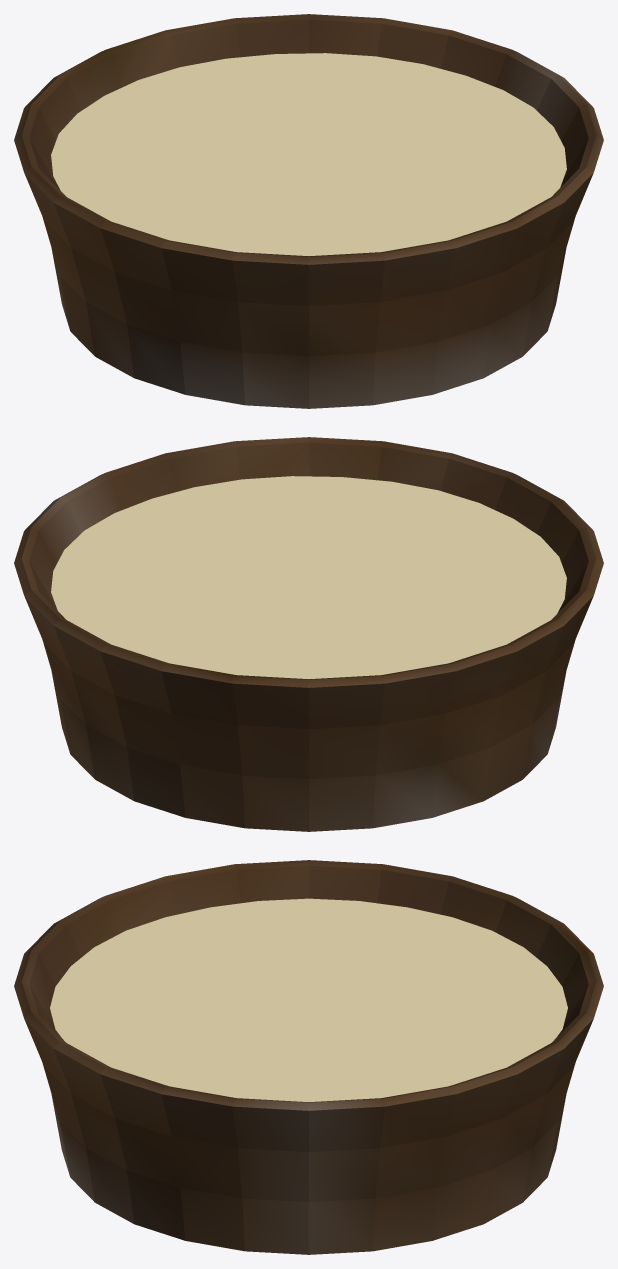
File: filled_grain.glb
3 renders of one model, top to bottom at view 1: azimuth 30°, elevation 25°; view 2: azimuth 150°, elevation 25°; view 3: azimuth 270°, elevation 25°, orthographic.
Visible parts, largest first — view 1: SM_Basket01a_M_Basket01a_0, variant_grain_surface; view 2: SM_Basket01a_M_Basket01a_0, variant_grain_surface; view 3: SM_Basket01a_M_Basket01a_0, variant_grain_surface.
Boxes of the visible parts, x1,y1,x2,y2 form: SM_Basket01a_M_Basket01a_0: (14,14,603,408); variant_grain_surface: (51,53,566,255); SM_Basket01a_M_Basket01a_0: (14,437,603,831); variant_grain_surface: (51,476,566,678); SM_Basket01a_M_Basket01a_0: (14,860,603,1254); variant_grain_surface: (50,898,567,1101).
Size of the model in its own units: 0.6652 by 0.2103 by 0.6652.
